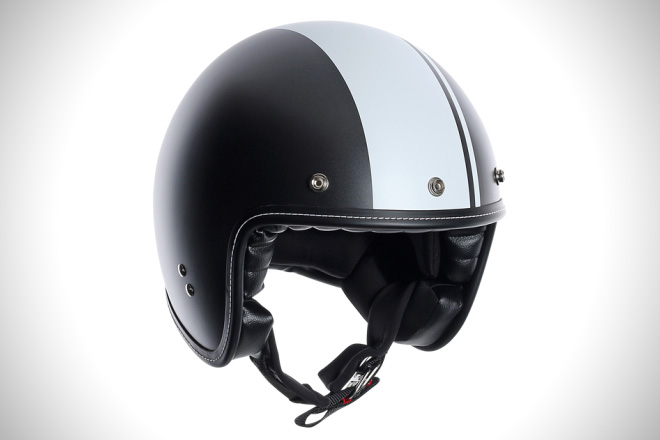with_helmet: (149, 12, 509, 381)
